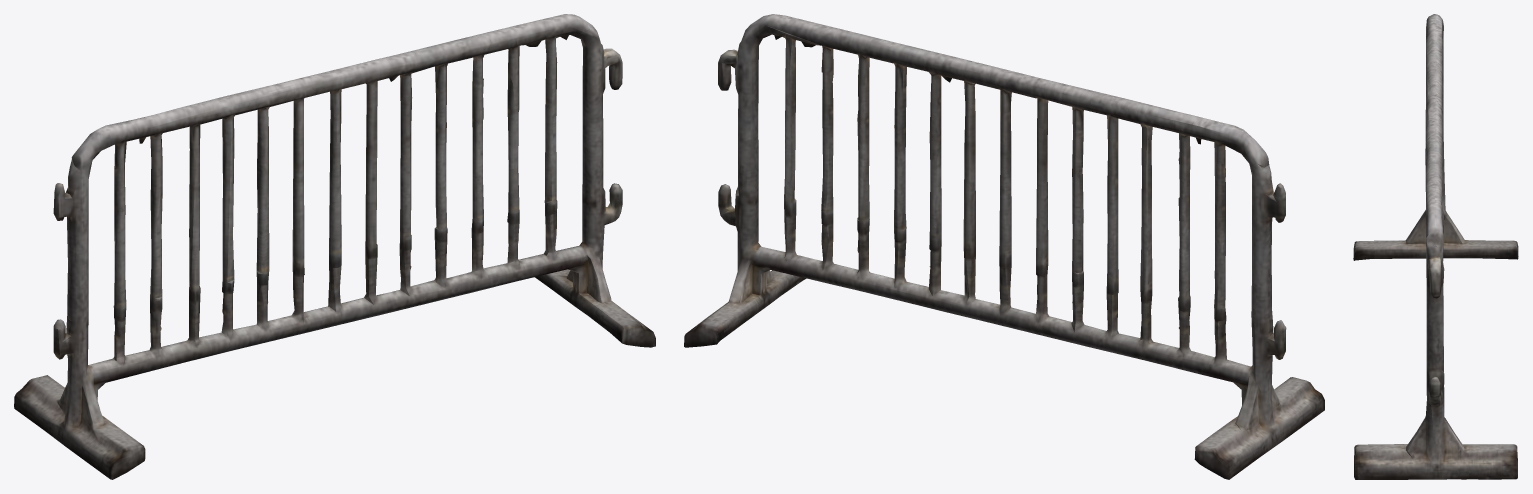
The model's file is p7-crowd-barrier.glb.
The picture shows the model from 3 angles, left to right: view 1: azimuth 30°, elevation 25°; view 2: azimuth 150°, elevation 25°; view 3: azimuth 270°, elevation 25°; orthographic projection. The views are drawn at different scales.
Parts seen in each view (by area): view 1: p7-crowd-barrier; view 2: p7-crowd-barrier; view 3: p7-crowd-barrier.
Part boxes in pixels (x1,y1,x2,y2): p7-crowd-barrier: [14, 14, 655, 479]; p7-crowd-barrier: [684, 14, 1324, 479]; p7-crowd-barrier: [1353, 14, 1518, 479].
Bounding box in the file's own units: 2 × 1.04 × 0.6.
1 material, 1 textured.
